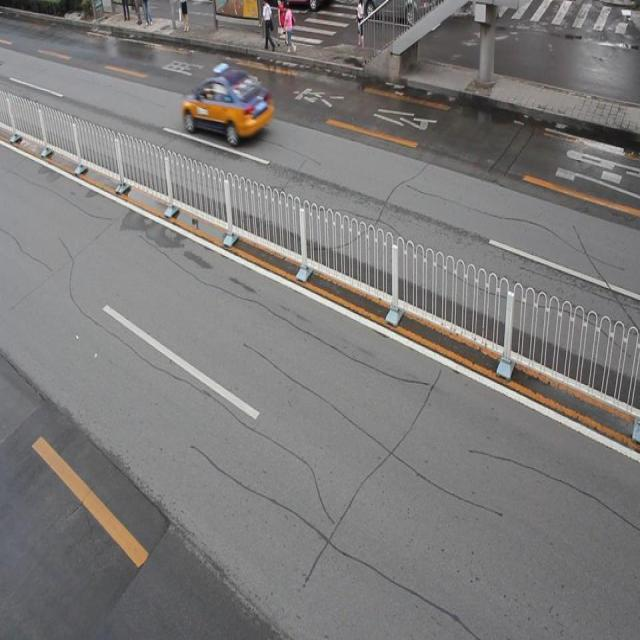car: (182, 66, 274, 144)
